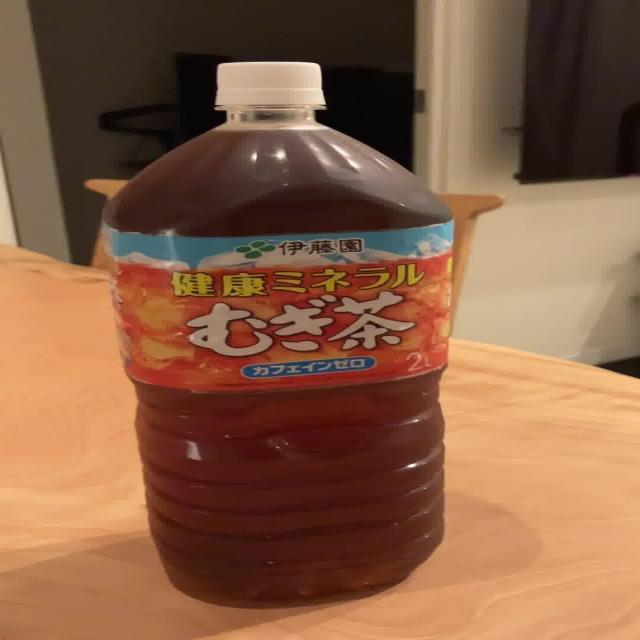good: (101, 60, 454, 612)
